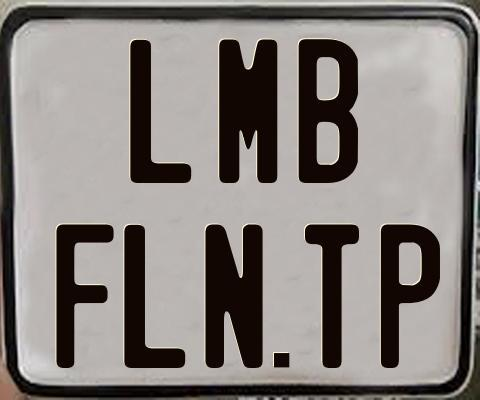B: (299, 37, 364, 184)
F: (53, 222, 114, 368)
L: (130, 39, 197, 182), (122, 224, 187, 369)
M: (219, 36, 279, 185)
N: (205, 221, 265, 366)
P: (381, 222, 445, 372)
T: (304, 223, 358, 370)
